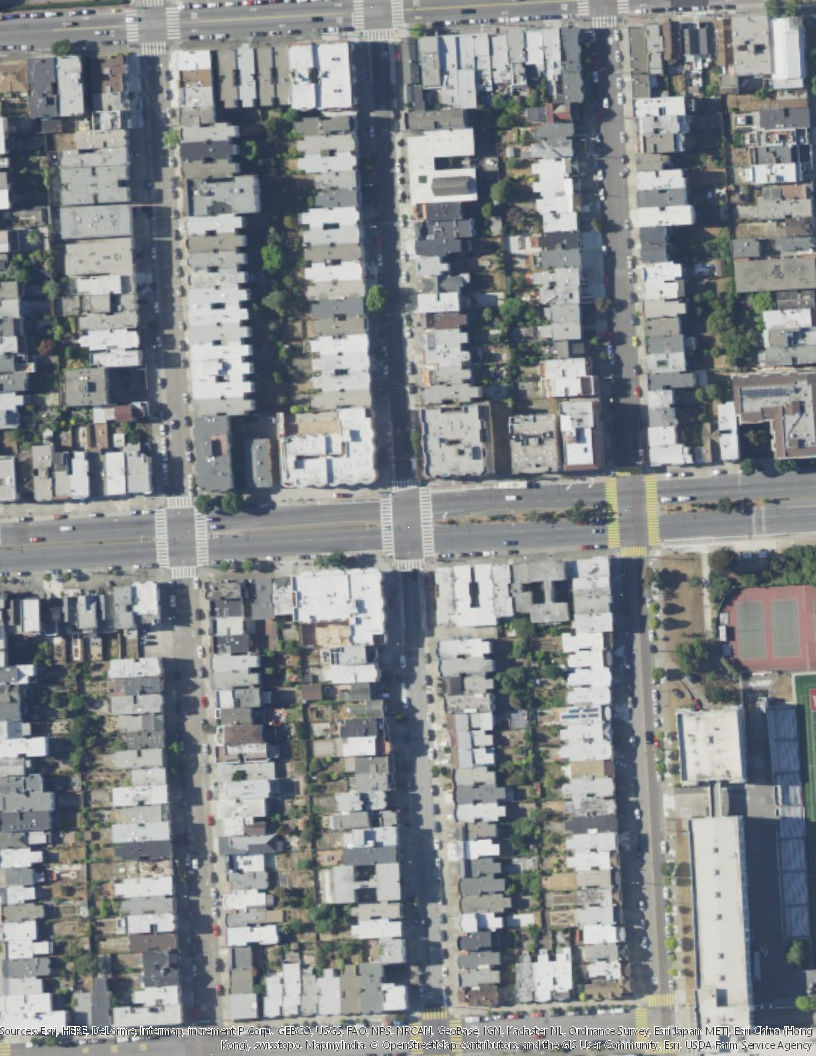zebracross: (644, 477, 661, 544), (419, 488, 435, 556), (605, 477, 620, 547), (379, 492, 396, 553), (154, 509, 170, 569), (194, 507, 209, 566), (164, 7, 181, 41), (125, 9, 141, 44), (635, 1006, 650, 1043), (137, 41, 168, 58), (449, 1018, 464, 1053), (647, 992, 679, 1007), (364, 29, 398, 42), (389, 1, 406, 26), (166, 495, 194, 510), (396, 558, 423, 572), (353, 1, 366, 29), (591, 15, 619, 28), (620, 546, 647, 558), (392, 480, 419, 492), (169, 566, 196, 578), (616, 466, 644, 476), (423, 1008, 447, 1019), (617, 1, 631, 15), (576, 1, 590, 15), (138, 1, 162, 8)
